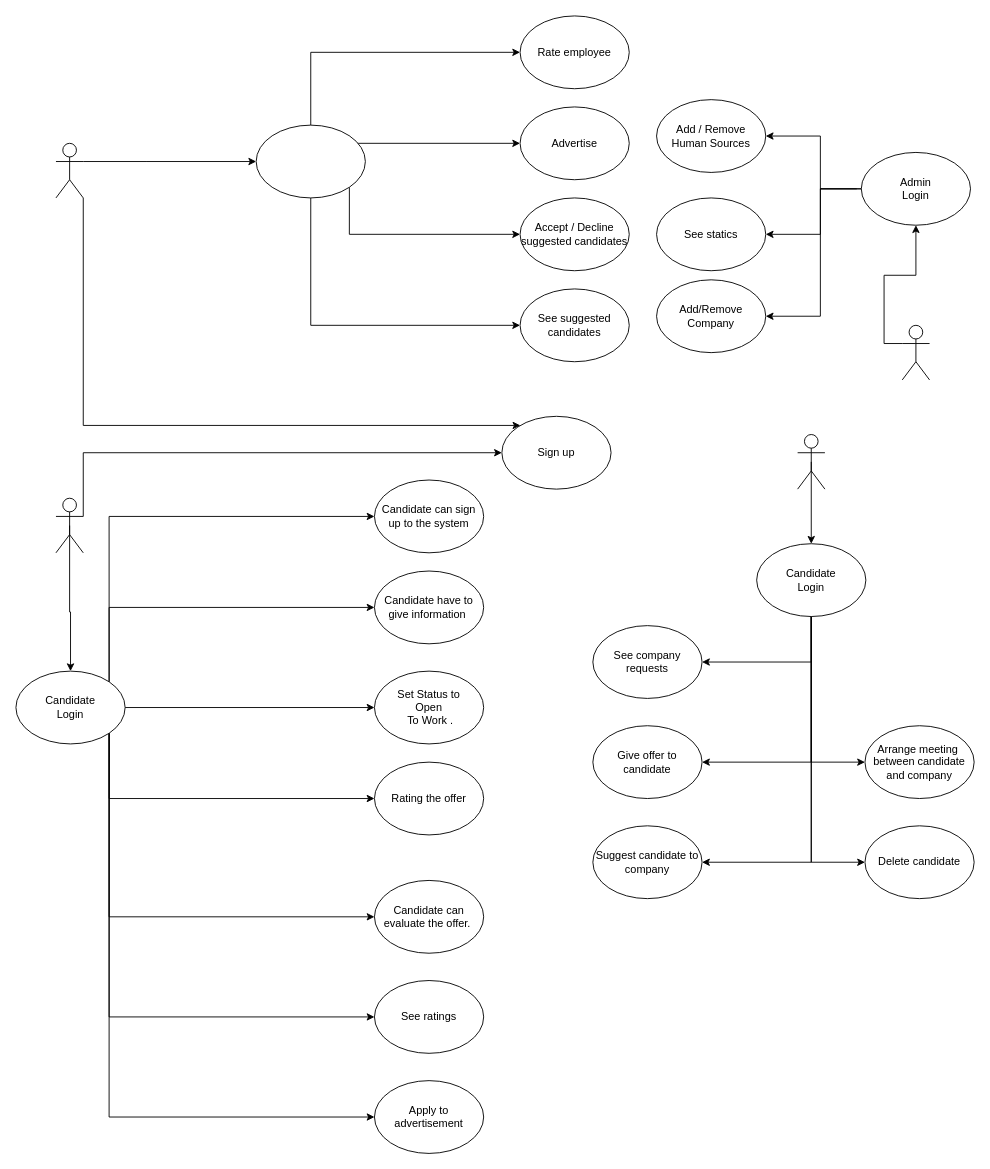
Image size: 990x1169. Some labels were removed from this diagram. Each missing label, with the centre of its shape:
"Admin" belongs at [915,352].
"Applicant company" belongs at [69,170].
"Applicant Company Login" belongs at [310,161].
"Candidate" belongs at [69,525].
"Human Sources" belongs at [811,461].
